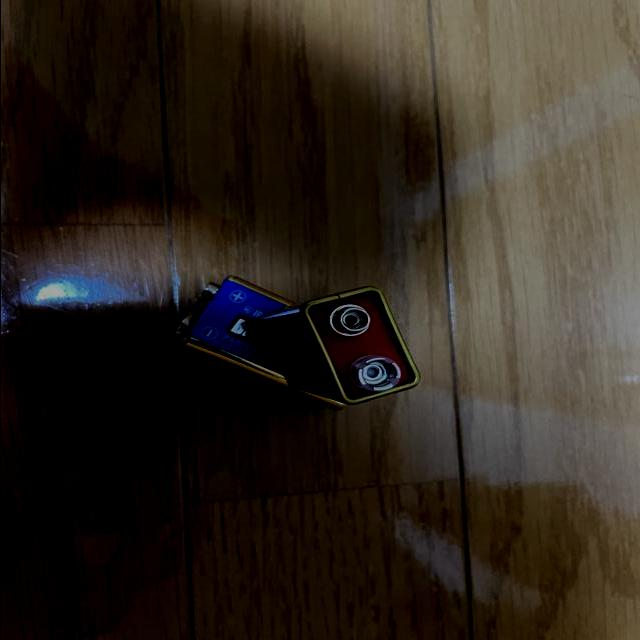9V: (171, 277, 354, 411), (254, 285, 422, 406)
